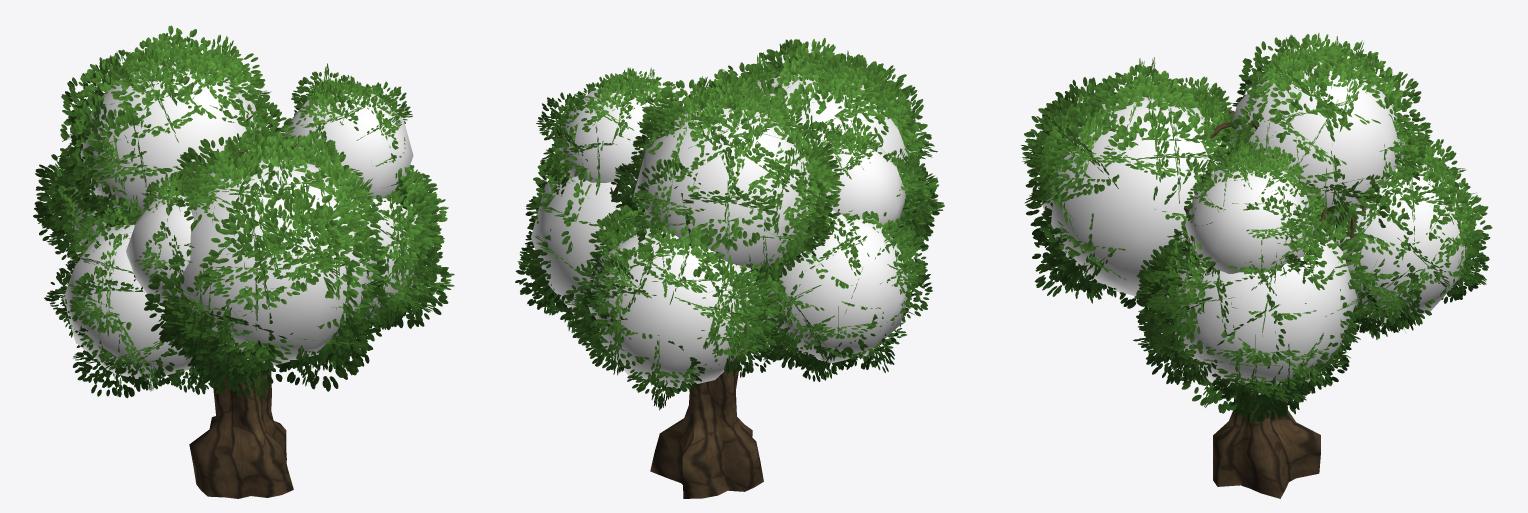
File: zz_m_nofill.gltf
3 renders of one model, left to right at view 1: azimuth 30°, elevation 25°; view 2: azimuth 150°, elevation 25°; view 3: azimuth 270°, elevation 25°, orthographic. The views are drawn at different scales.
Parts seen in each view (by area): view 1: zz_m_nofill_leaves_LOD0, zz_m_nofill_shadow_LOD0, zz_m_nofill_trunk_LOD0; view 2: zz_m_nofill_leaves_LOD0, zz_m_nofill_shadow_LOD0, zz_m_nofill_trunk_LOD0; view 3: zz_m_nofill_leaves_LOD0, zz_m_nofill_shadow_LOD0, zz_m_nofill_trunk_LOD0.
Part boxes in pixels (<box>): zz_m_nofill_leaves_LOD0: <box>33,25,454,399</box>; zz_m_nofill_shadow_LOD0: <box>63,60,417,380</box>; zz_m_nofill_trunk_LOD0: <box>148,115,300,498</box>; zz_m_nofill_leaves_LOD0: <box>515,38,944,410</box>; zz_m_nofill_shadow_LOD0: <box>531,74,913,388</box>; zz_m_nofill_trunk_LOD0: <box>610,163,822,498</box>; zz_m_nofill_leaves_LOD0: <box>1021,33,1492,423</box>; zz_m_nofill_shadow_LOD0: <box>1041,61,1467,394</box>; zz_m_nofill_trunk_LOD0: <box>1184,110,1365,498</box>.
Size of what is drawn, in the model's own units: 10.9 by 11.54 by 12.4.
3 materials, 2 textured.
